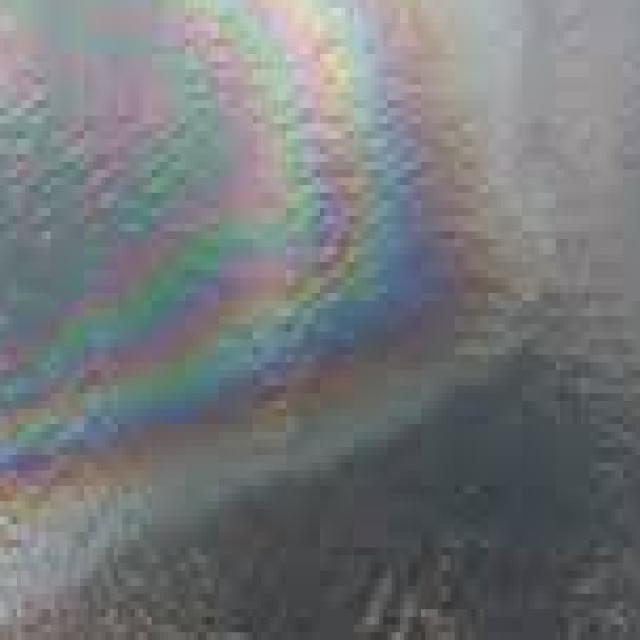-: (0, 0, 531, 640), (0, 0, 463, 640), (0, 0, 392, 278), (0, 115, 181, 640)
